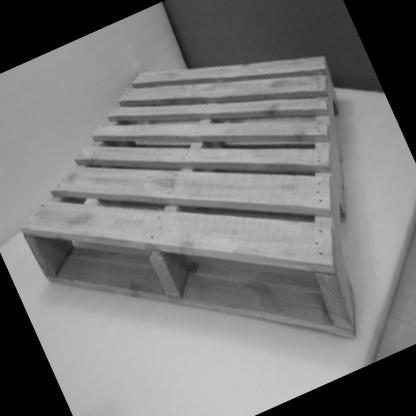BoxFace: (21, 48, 358, 341)
